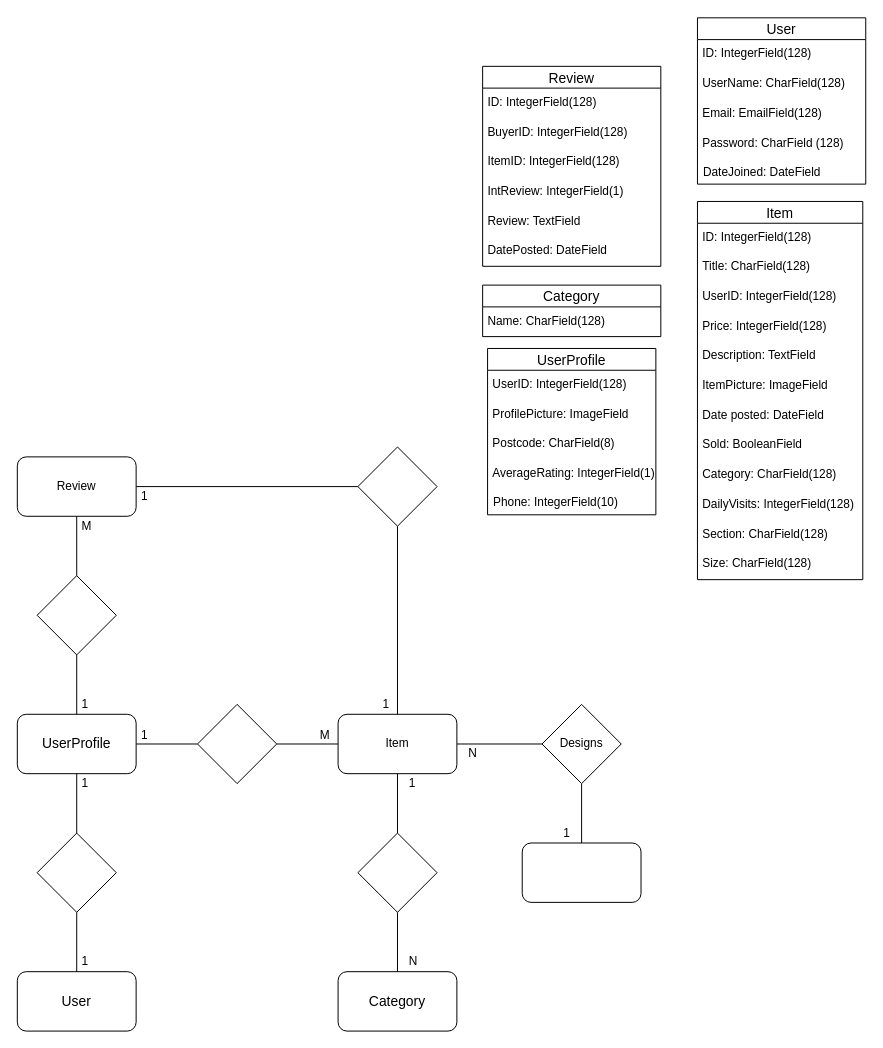
Some shapes in this 883 by 1048 pixel diagram are drawn without their labels. The shapes that lost their labels are listed below. From the top down, each one's box as (x1, y1, x2, y2) in pixels, then its label:
(357, 446, 437, 526): Has
(36, 575, 116, 655): Leaves
(197, 703, 277, 784): Lists
(36, 832, 116, 912): Links
(357, 832, 437, 912): Belongs
(521, 842, 641, 902): Section
